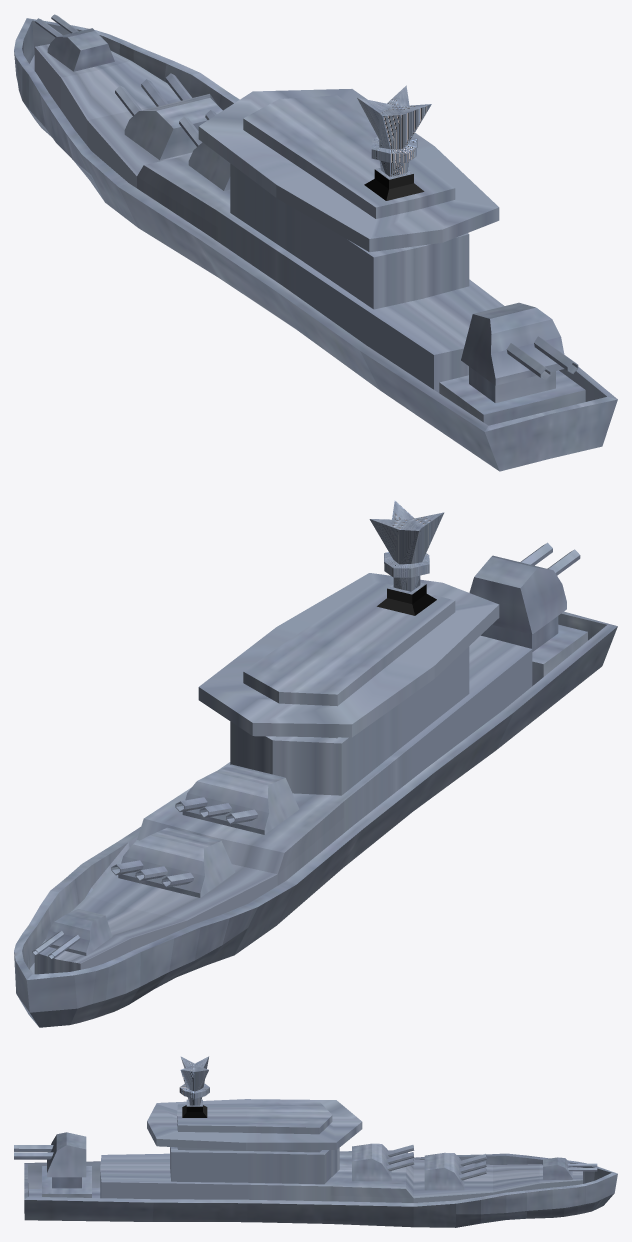
File: Destroyer.obj
3 views of the same model, one above another, from view 1: azimuth 30°, elevation 25°; view 2: azimuth 150°, elevation 25°; view 3: azimuth 270°, elevation 25° (orthographic). The views are drawn at different scales.
Visible parts, largest first — view 1: Destroyer; view 2: Destroyer; view 3: Destroyer.
Boxes of the visible parts, x1=… form: Destroyer: x1=14, y1=14, x2=617, y2=471; Destroyer: x1=14, y1=500, x2=617, y2=1027; Destroyer: x1=14, y1=1056, x2=617, y2=1227.
Bounding box in the file's own units: 2.73 × 3.76 × 14.18.
